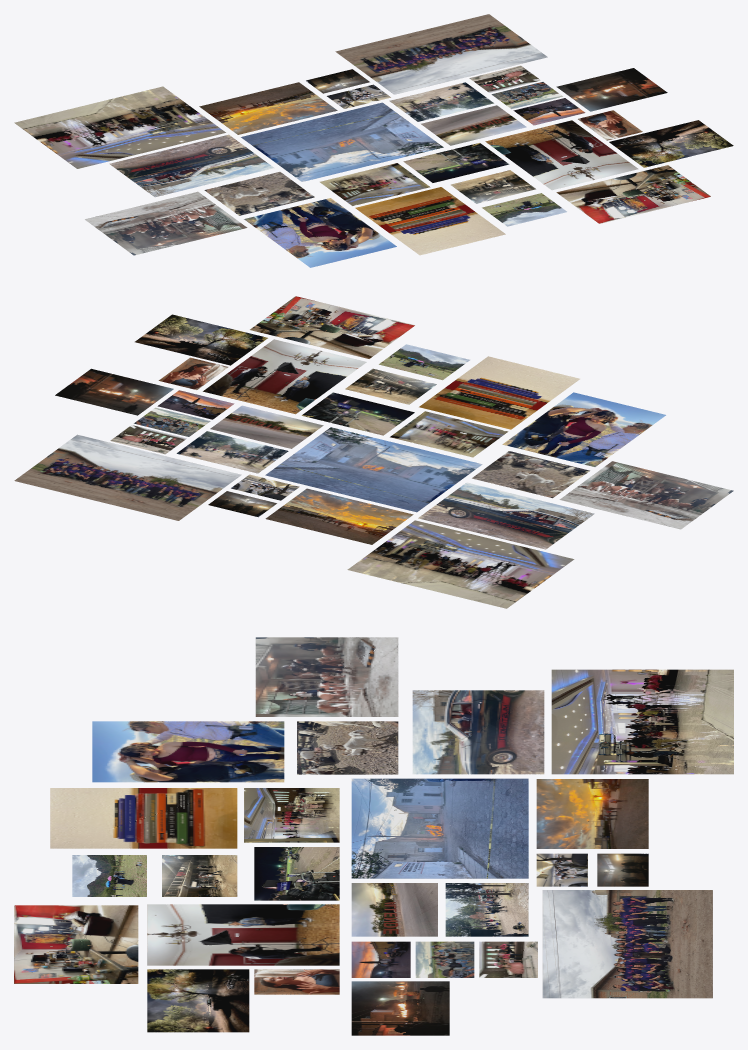
The model's file is somos_nucleo-2.fbx.
3 renders of one model, top to bottom at view 1: azimuth 30°, elevation 25°; view 2: azimuth 150°, elevation 25°; view 3: azimuth 270°, elevation 25°, orthographic. The views are drawn at different scales.
Visible parts, largest first — view 1: 15, 24, 12, 09, 01, 00, 02, 11, 05, 16, 10, 06 (+13 smaller); view 2: 15, 24, 12, 09, 01, 00, 02, 11, 05, 16, 10, 06 (+13 smaller); view 3: 15, 24, 12, 09, 01, 00, 02, 11, 05, 16, 10, 06 (+13 smaller).
Boxes of the visible parts, x1,y1,x2,y2 form: 15: (14, 86, 225, 168); 24: (335, 14, 547, 94); 12: (241, 102, 443, 181); 09: (485, 120, 638, 190); 01: (244, 198, 396, 267); 00: (85, 191, 247, 255); 02: (355, 187, 505, 255); 11: (109, 134, 274, 197); 05: (556, 165, 710, 223); 16: (199, 82, 337, 134); 10: (609, 120, 733, 167); 06: (204, 171, 314, 215); 15: (347, 520, 574, 608); 24: (14, 434, 241, 520); 12: (265, 427, 482, 512); 09: (203, 339, 366, 414); 01: (502, 392, 665, 466); 00: (559, 461, 733, 529); 02: (419, 356, 579, 429); 11: (418, 482, 594, 549); 05: (250, 296, 414, 358); 16: (265, 488, 413, 544); 10: (135, 314, 267, 365); 06: (472, 451, 589, 498); 15: (551, 669, 733, 774); 24: (542, 890, 712, 998); 12: (351, 778, 528, 878); 09: (147, 904, 339, 965); 01: (92, 721, 284, 782); 00: (255, 637, 398, 716); 02: (50, 788, 237, 848); 11: (412, 690, 544, 774); 05: (14, 905, 138, 983); 16: (536, 779, 648, 848); 10: (147, 969, 249, 1032); 06: (297, 721, 398, 774).
Size of the model in its own units: 5.89 by 0 by 4.49.
